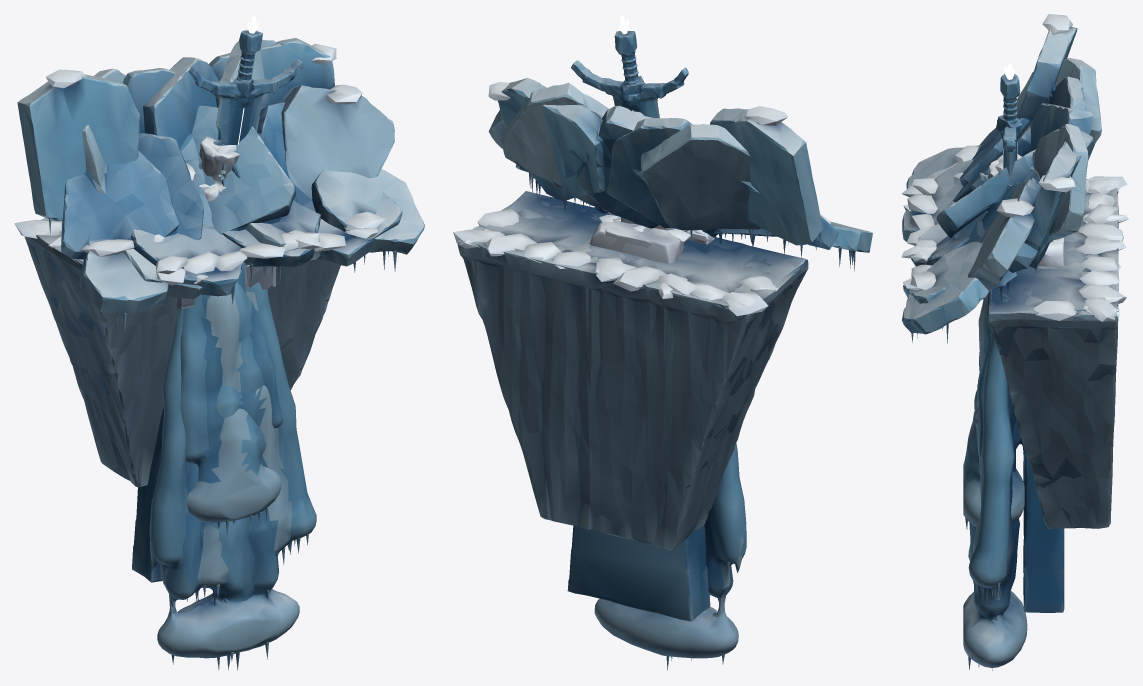
Rendered from smith_heart_quench_kit.glb.
3 views of the same model, side by side, from view 1: azimuth 30°, elevation 25°; view 2: azimuth 150°, elevation 25°; view 3: azimuth 270°, elevation 25° (orthographic). The views are drawn at different scales.
Visible parts, largest first — view 1: Kit_IceShelfA, Kit_IceShelfB, Kit_FrozenFallA, Kit_FrozenFallB, Kit_SunkBlade, Kit_FrostStone; view 2: Kit_IceShelfB, Kit_IceShelfA, Kit_FrozenFallA, Kit_SunkBlade, Kit_FrozenFallB; view 3: Kit_IceShelfB, Kit_IceShelfA, Kit_FrozenFallA, Kit_FrozenFallB, Kit_SunkBlade.
Part boxes in pixels (left/top/right/bottom): Kit_IceShelfA: left=14, top=38, right=402, bottom=486; Kit_IceShelfB: left=17, top=39, right=424, bottom=487; Kit_FrozenFallA: left=132, top=264, right=316, bottom=670; Kit_FrozenFallB: left=180, top=281, right=283, bottom=534; Kit_SunkBlade: left=189, top=14, right=303, bottom=145; Kit_FrostStone: left=198, top=136, right=239, bottom=201; Kit_IceShelfB: left=457, top=82, right=822, bottom=545; Kit_IceShelfA: left=453, top=78, right=872, bottom=550; Kit_FrozenFallA: left=567, top=214, right=746, bottom=670; Kit_SunkBlade: left=571, top=14, right=688, bottom=118; Kit_FrozenFallB: left=605, top=216, right=653, bottom=252; Kit_IceShelfB: left=901, top=14, right=1123, bottom=528; Kit_IceShelfA: left=901, top=58, right=1128, bottom=528; Kit_FrozenFallA: left=963, top=242, right=1064, bottom=670; Kit_FrozenFallB: left=963, top=237, right=1064, bottom=539; Kit_SunkBlade: left=996, top=62, right=1021, bottom=178.
Size of the model in its own units: 20.95 by 38.41 by 12.65.
